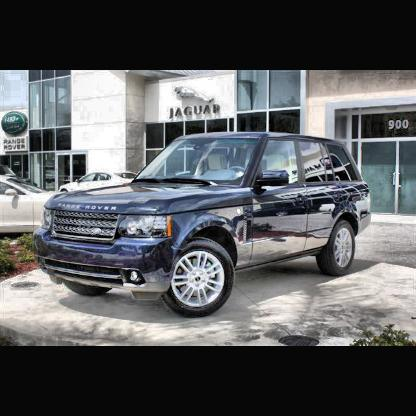Land Rover Range Rover SUV 2012: (34, 128, 375, 319)
